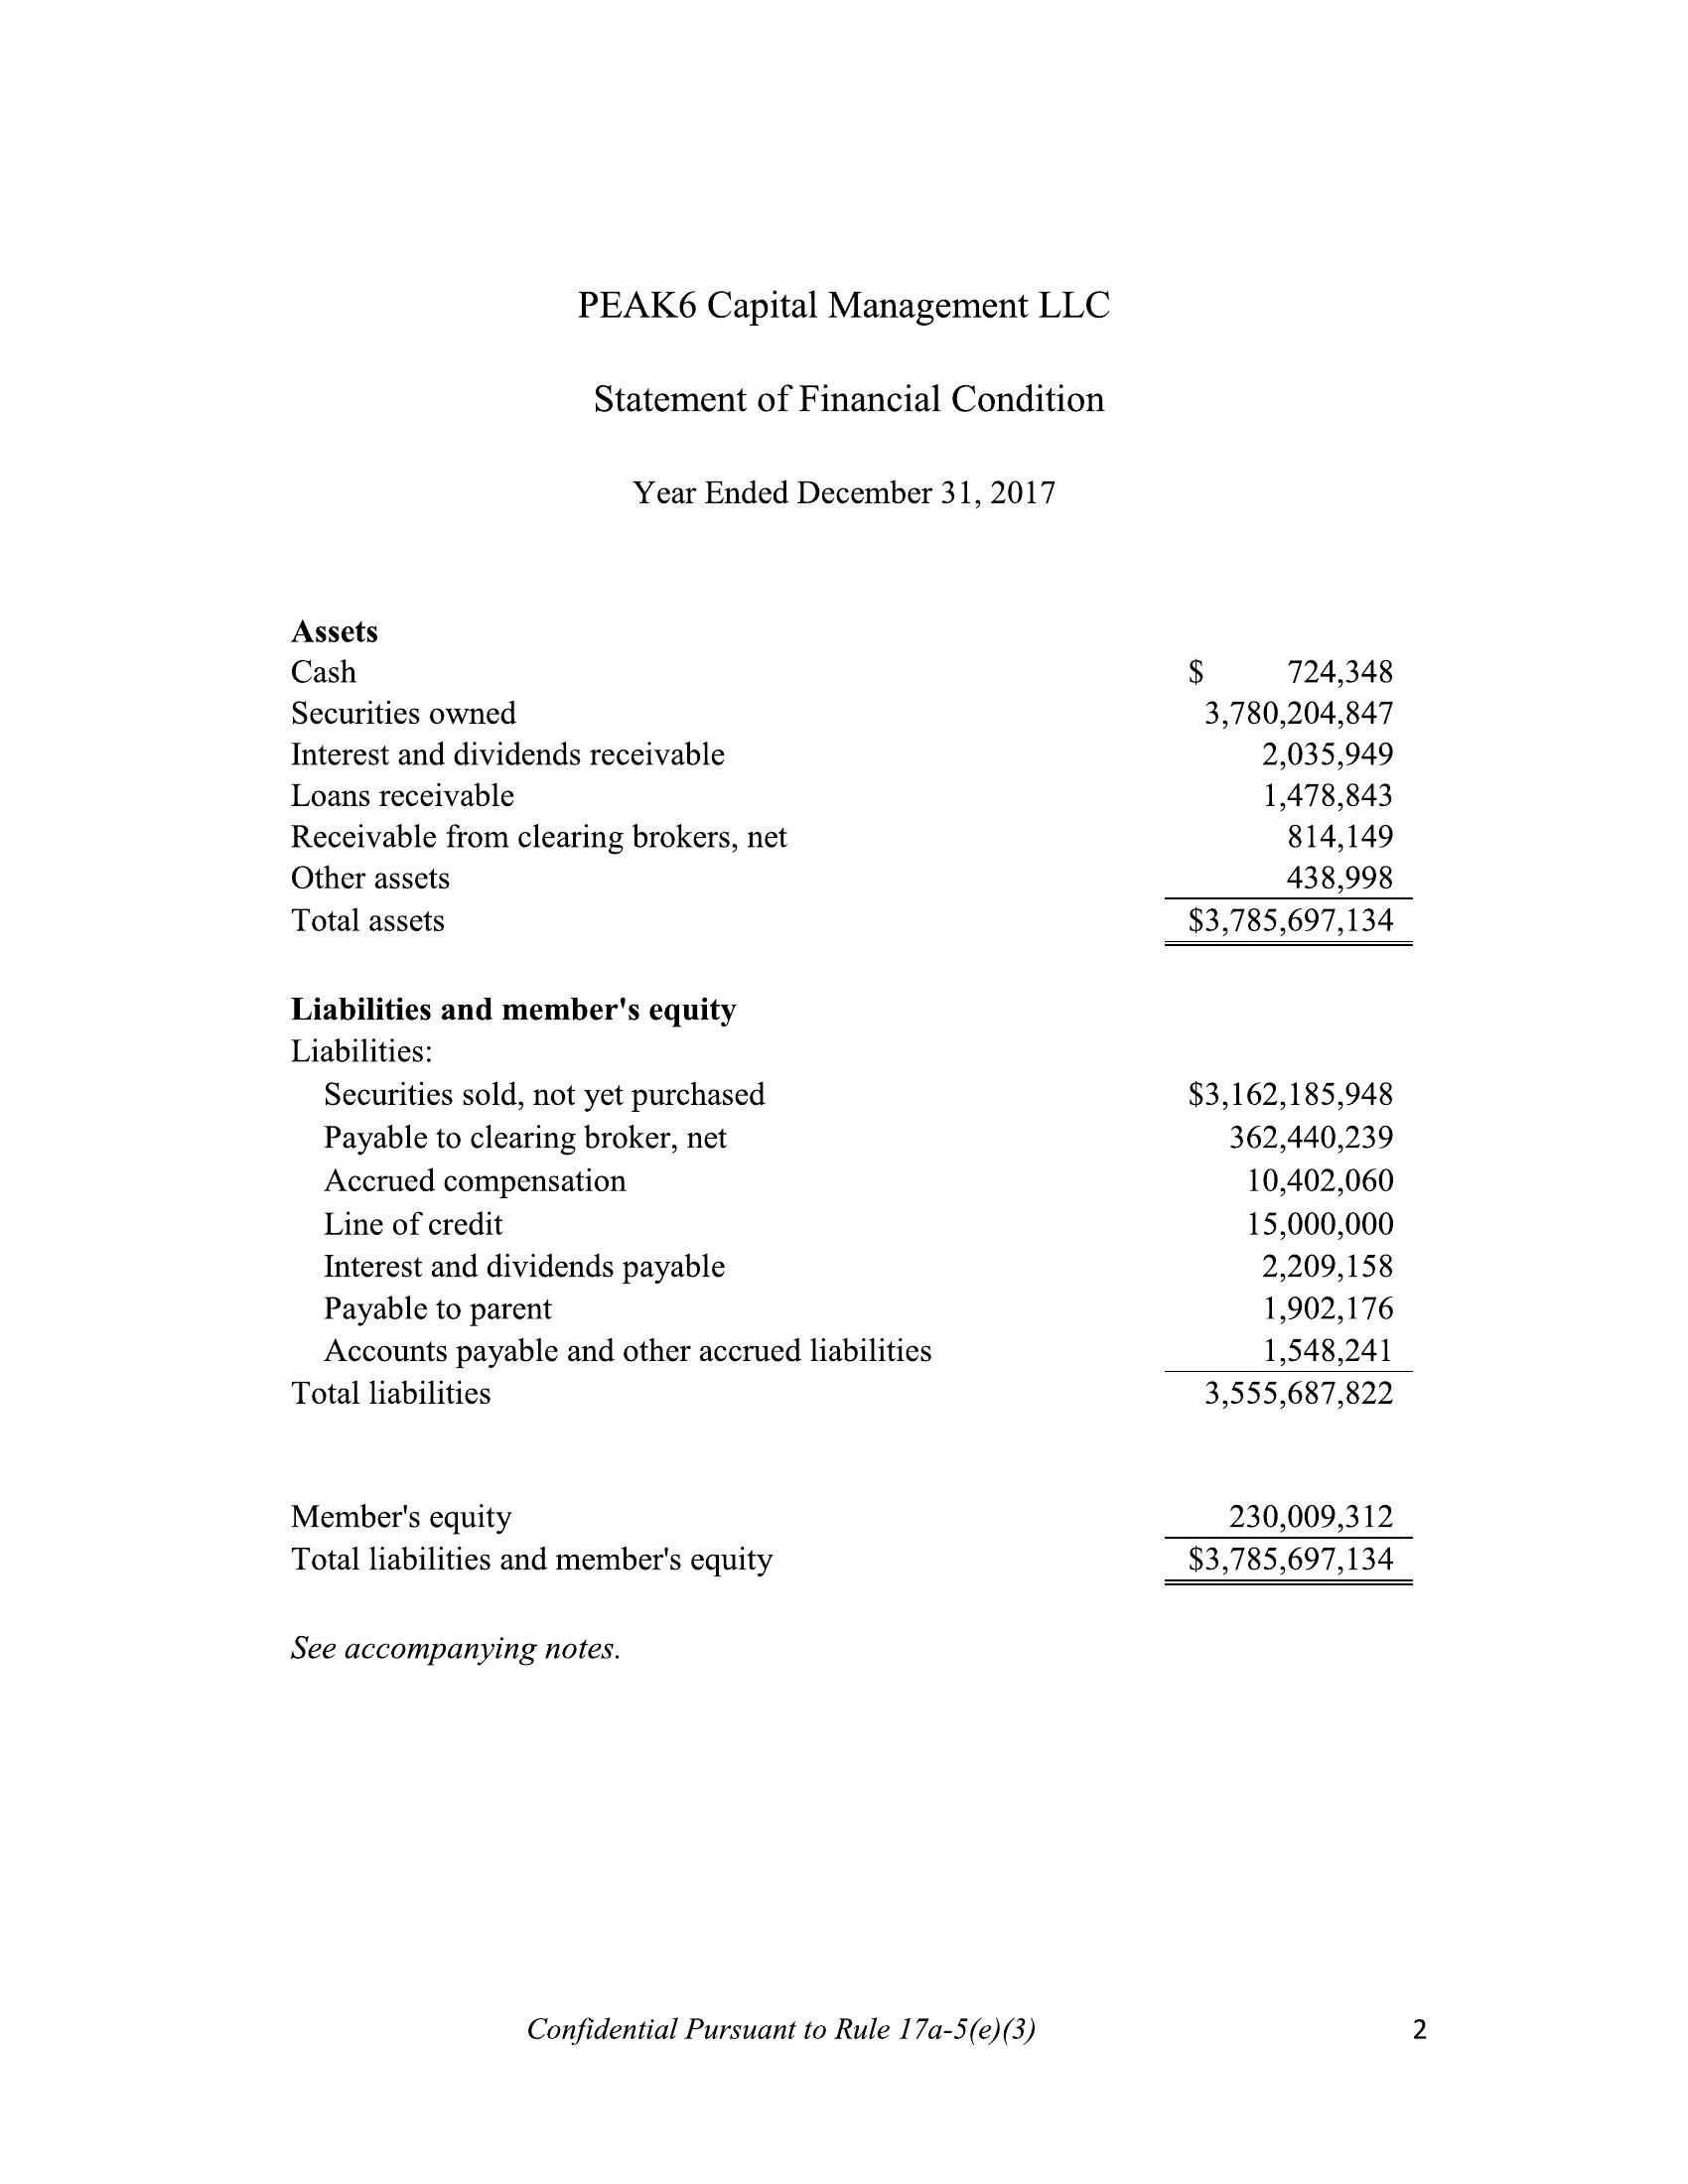table: (259, 603, 1426, 1595)
